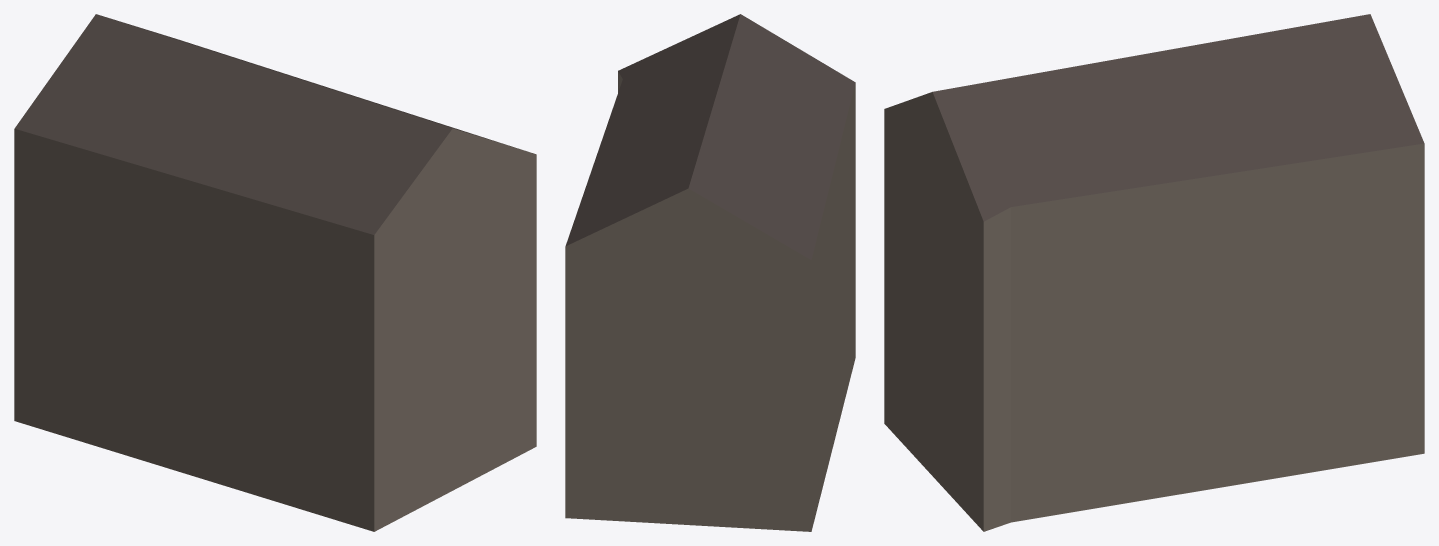
3 renders of one model, left to right at view 1: azimuth 30°, elevation 25°; view 2: azimuth 150°, elevation 25°; view 3: azimuth 270°, elevation 25°, orthographic. The views are drawn at different scales.
Visible parts, largest first — view 1: HP-w783664821; view 2: HP-w783664821; view 3: HP-w783664821.
Part boxes in pixels (x1,y1,x2,y2): HP-w783664821: [14, 14, 536, 531]; HP-w783664821: [565, 14, 855, 531]; HP-w783664821: [884, 14, 1424, 531].
Bounding box in the file's own units: 7.84 × 7.43 × 9.47.
